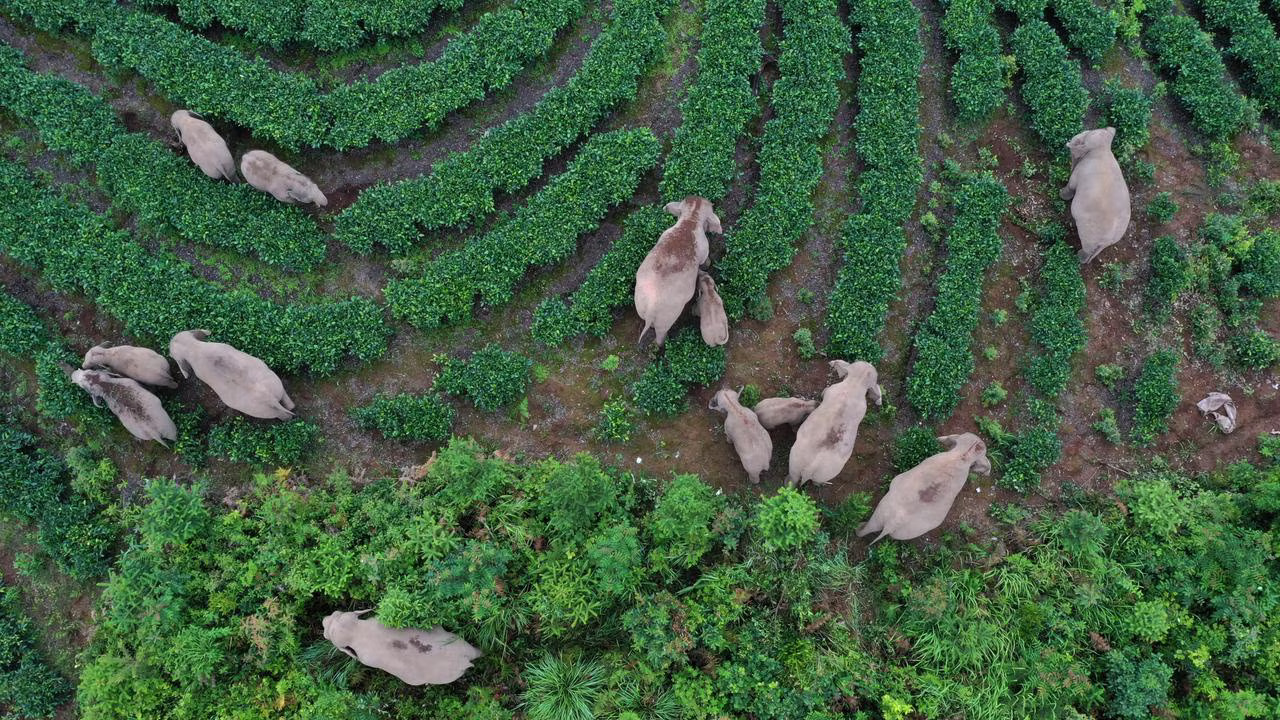Adult Elephant: (281, 593, 513, 696), (864, 417, 1001, 589), (787, 345, 909, 499), (151, 318, 314, 429), (632, 187, 724, 349), (57, 368, 181, 473), (1071, 116, 1132, 277)
Baby Elephant: (233, 133, 338, 220), (157, 94, 236, 188), (698, 392, 776, 484), (72, 329, 175, 393), (744, 373, 818, 425), (694, 273, 733, 345)
